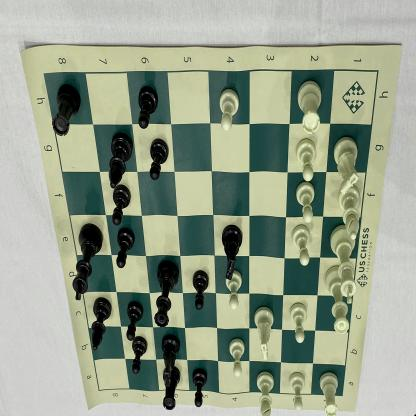black-bishop: (108, 132, 134, 188), (89, 296, 112, 353)
black-king: (72, 221, 102, 304)
black-knight: (221, 224, 244, 282), (159, 334, 182, 387)
black-pawn: (148, 135, 170, 182), (138, 84, 158, 131), (110, 185, 132, 226), (126, 299, 144, 341), (116, 228, 134, 270), (131, 336, 149, 376), (192, 368, 210, 408), (192, 270, 210, 310)
black-queen: (155, 259, 178, 329)
black-rook: (52, 81, 83, 142), (161, 366, 182, 414)
white-bishop: (338, 186, 363, 241), (255, 371, 276, 416)
white-king: (329, 223, 359, 305)
white-knight: (333, 138, 362, 197), (254, 306, 276, 360)
white-pawn: (219, 90, 241, 134), (296, 139, 317, 182), (228, 336, 248, 380), (295, 182, 316, 222), (292, 226, 312, 266), (225, 269, 244, 311), (289, 303, 308, 345), (288, 370, 306, 414)
white-queen: (323, 264, 353, 336)
white-rook: (296, 78, 324, 136), (317, 370, 341, 416)
